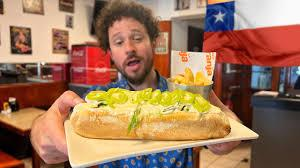Completos: (73, 88, 233, 140)
